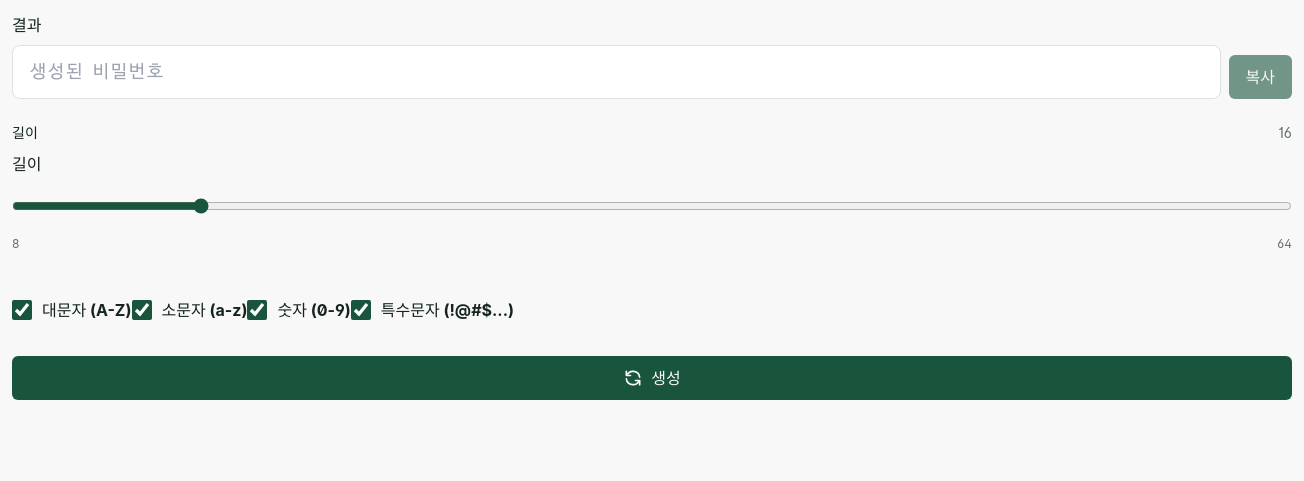
Test: PasswordGenerator › generates password when clicking generate button
Click the button "생성" at x=652, y=378, box [12, 356, 1292, 400]
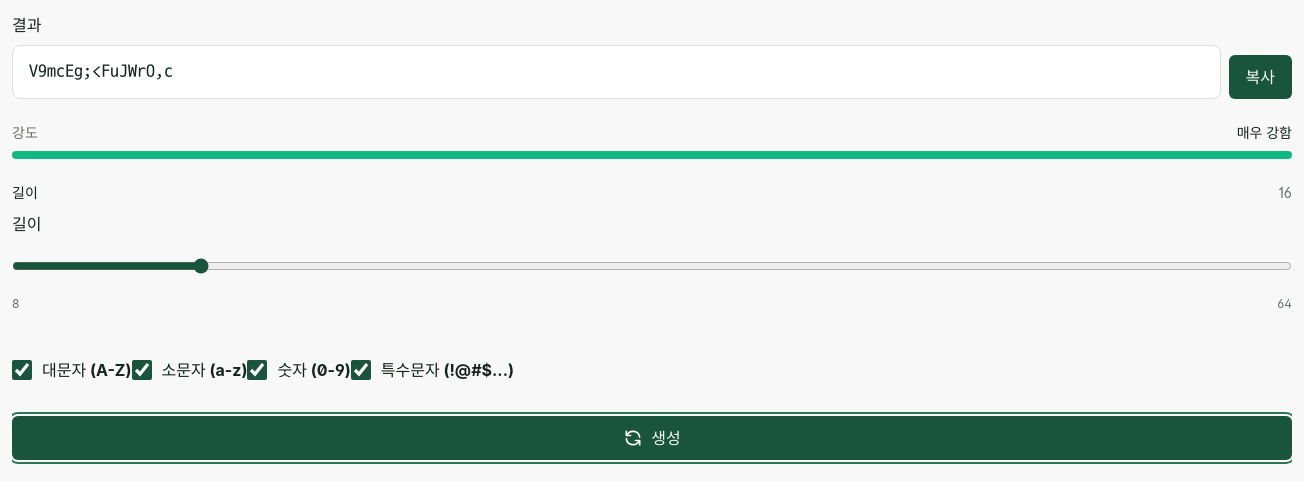
Expected: the field with placeholder "생성된 비밀번호" is not empty, [12, 45, 1220, 99]
